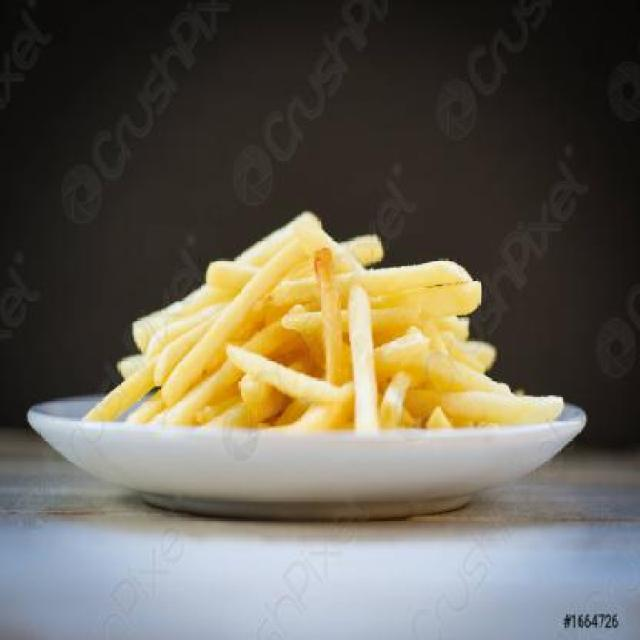fries: (73, 201, 564, 433)
